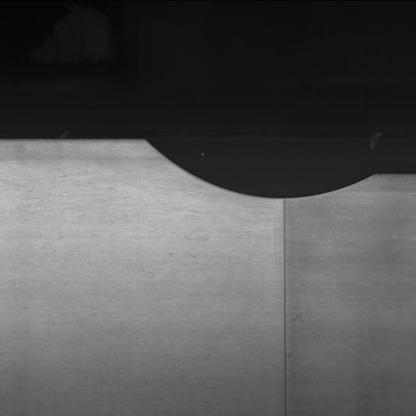crescent_gap: (137, 132, 395, 202)
welding_line: (270, 198, 304, 413)
